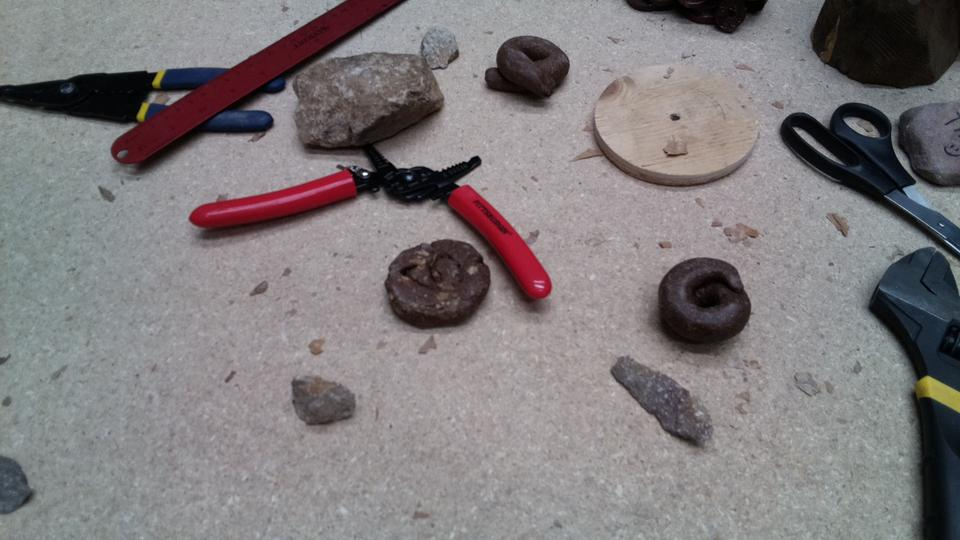poop: (382, 236, 493, 337), (654, 254, 752, 349), (484, 36, 572, 101)
